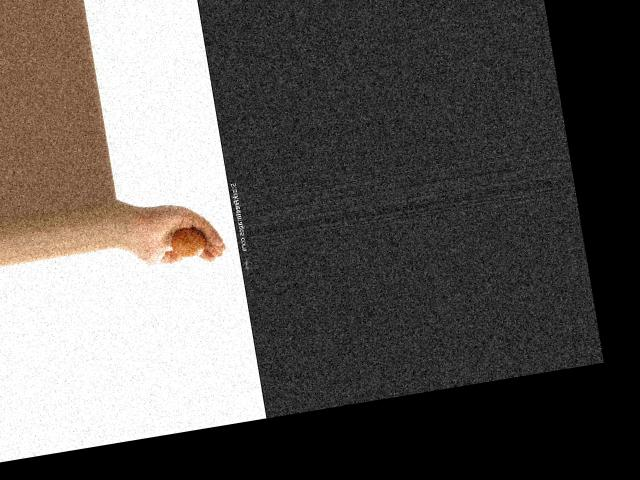egg: (169, 225, 210, 259)
